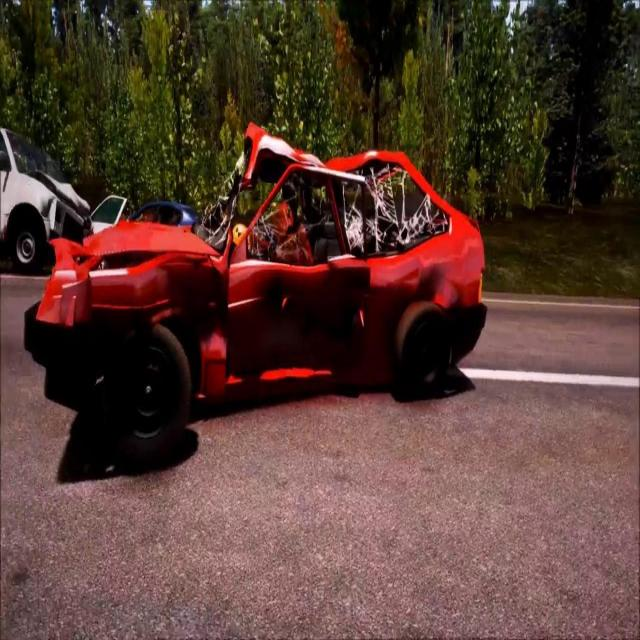accident: (28, 109, 490, 471)
